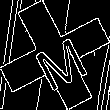M_NW: (23, 22, 87, 88)
